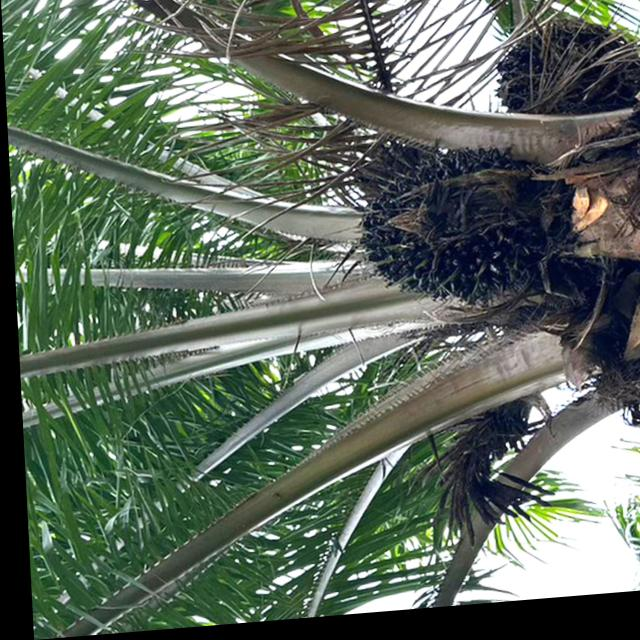unripe: (340, 142, 566, 330), (490, 21, 640, 136)
